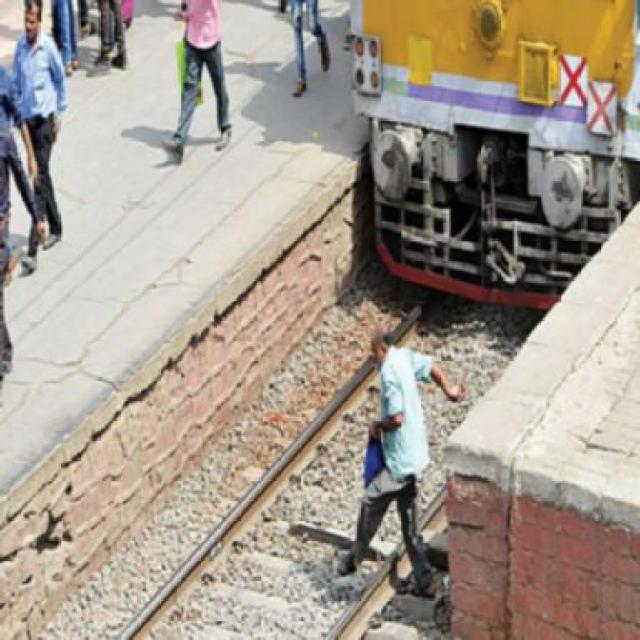Manusia: (355, 319, 440, 603)
